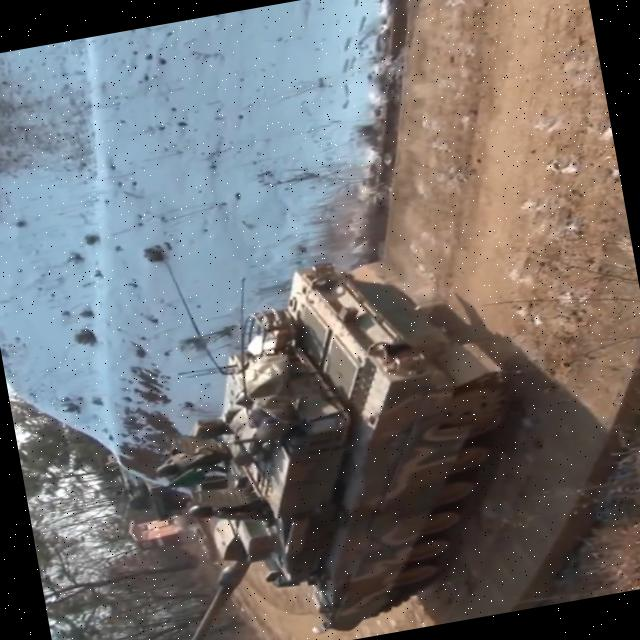korea tank: (112, 227, 563, 640)
